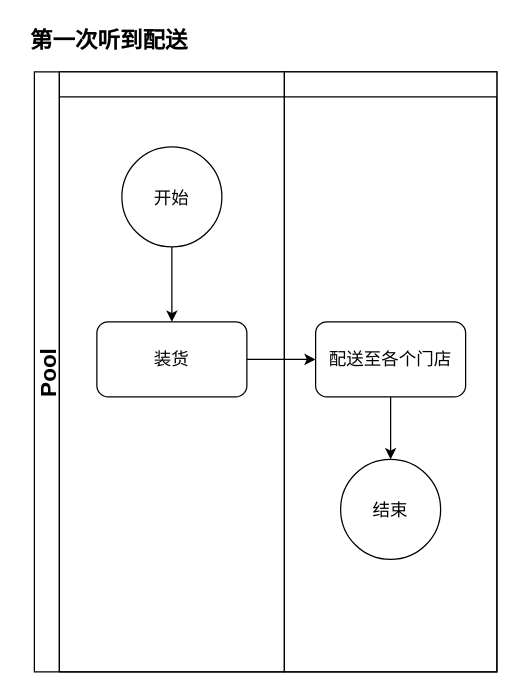
Image size: 519x694. Some labels were removed from this diagram. Here are the shapes that lost their labels. From the top down, the box of each, then its label:
(58, 71, 284, 672): 仓库
(283, 71, 497, 672): 司机
